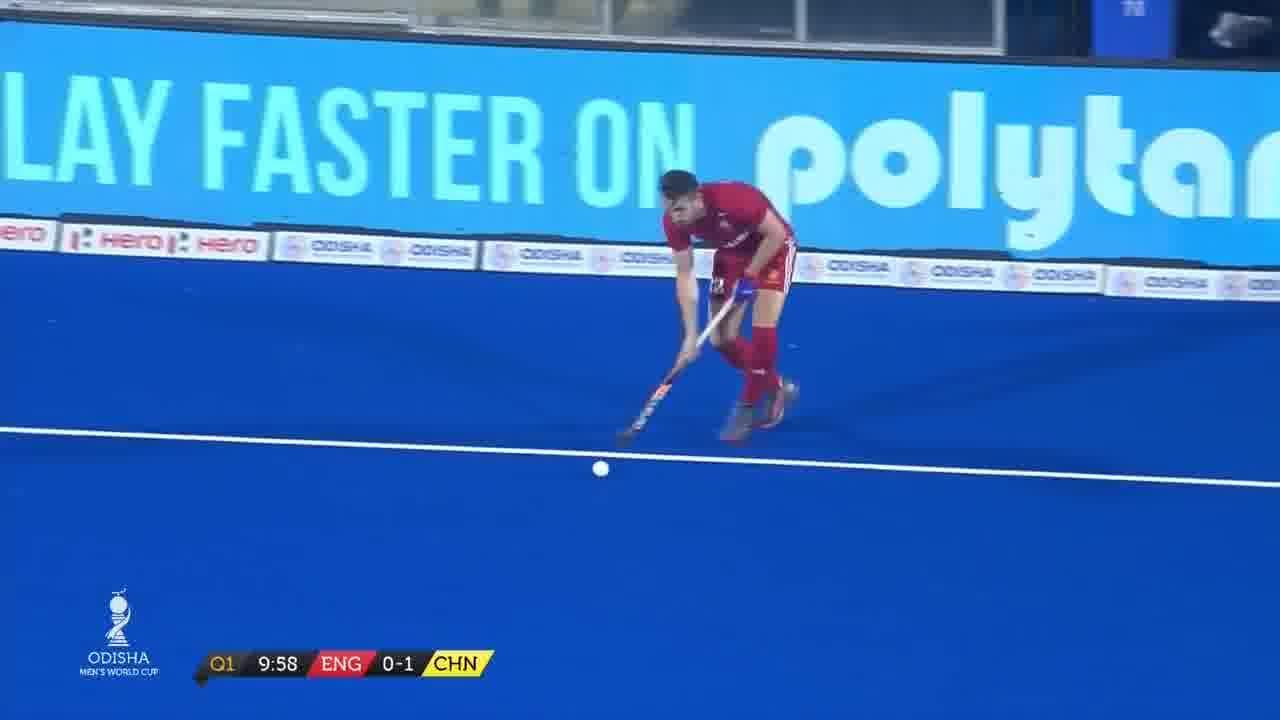ball: (588, 457, 614, 487)
